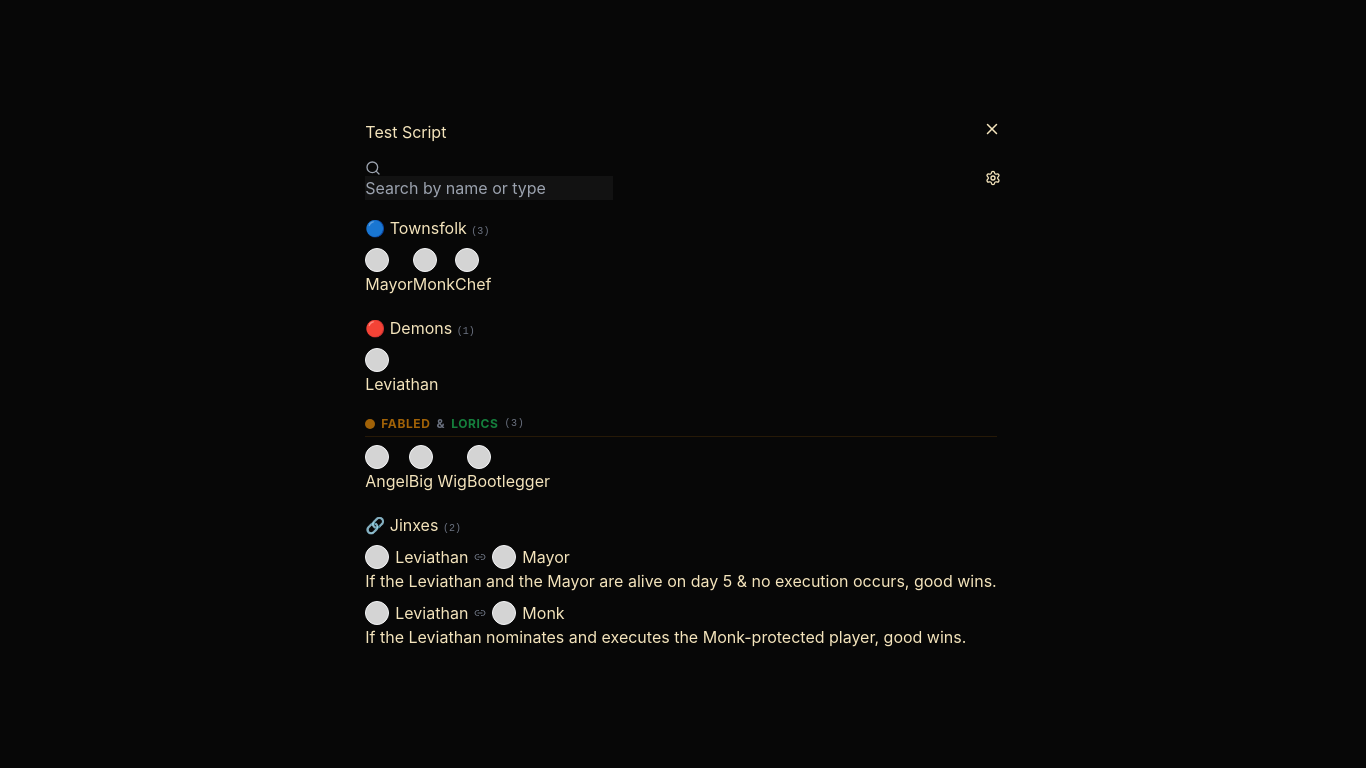
Test: ScriptCharactersModal Fabled and Lorics › opens ability details for Angel
Click the button "Angel".
click(387, 468)  # box [365,444,409,492]
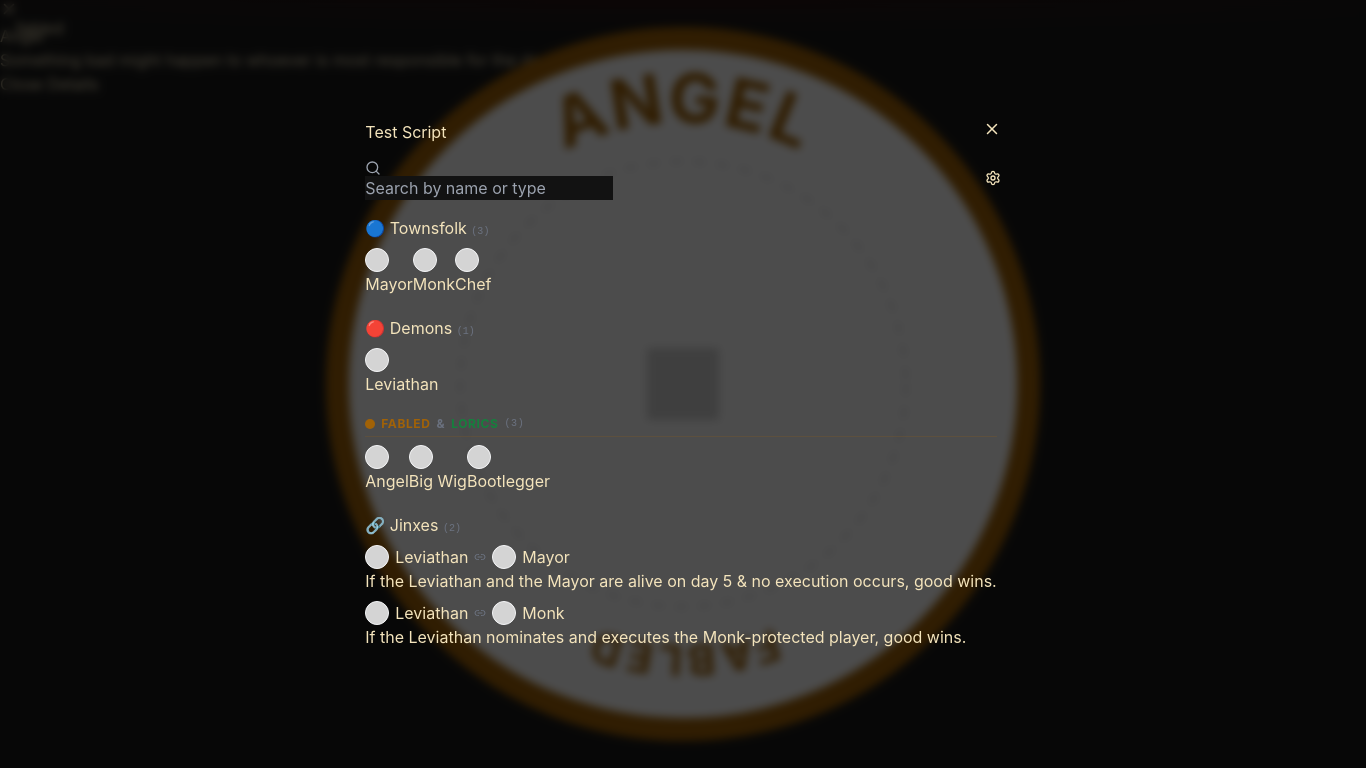
Result: the text "Something bad might happen to whoever is most responsible for the death of a new player." is shown at [0,50,688,70]
Result: the text "fabled" is shown at [16,16,64,40]
